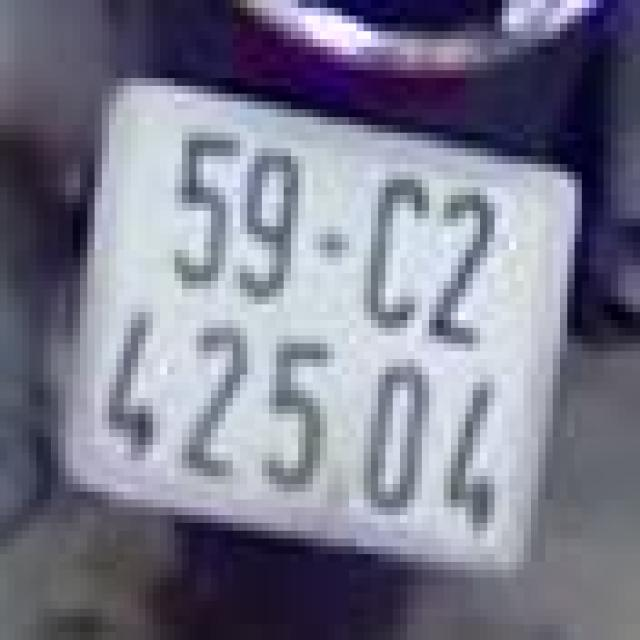0: (352, 340, 432, 542)
2: (175, 316, 247, 496), (426, 172, 498, 351)
4: (433, 363, 505, 550), (91, 296, 164, 460)
5: (160, 113, 240, 316), (266, 328, 324, 499)
9: (236, 133, 302, 320)
C: (352, 152, 432, 355)
